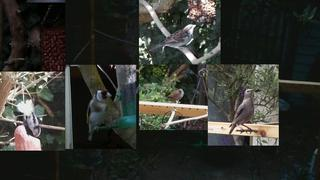dunnock: (162, 88, 184, 104)
goldfinch: (86, 89, 112, 141)
long tailed tit: (27, 96, 41, 138)
mouse: (27, 24, 41, 51)
sparrow: (149, 24, 197, 52)
starling: (229, 88, 255, 135)
